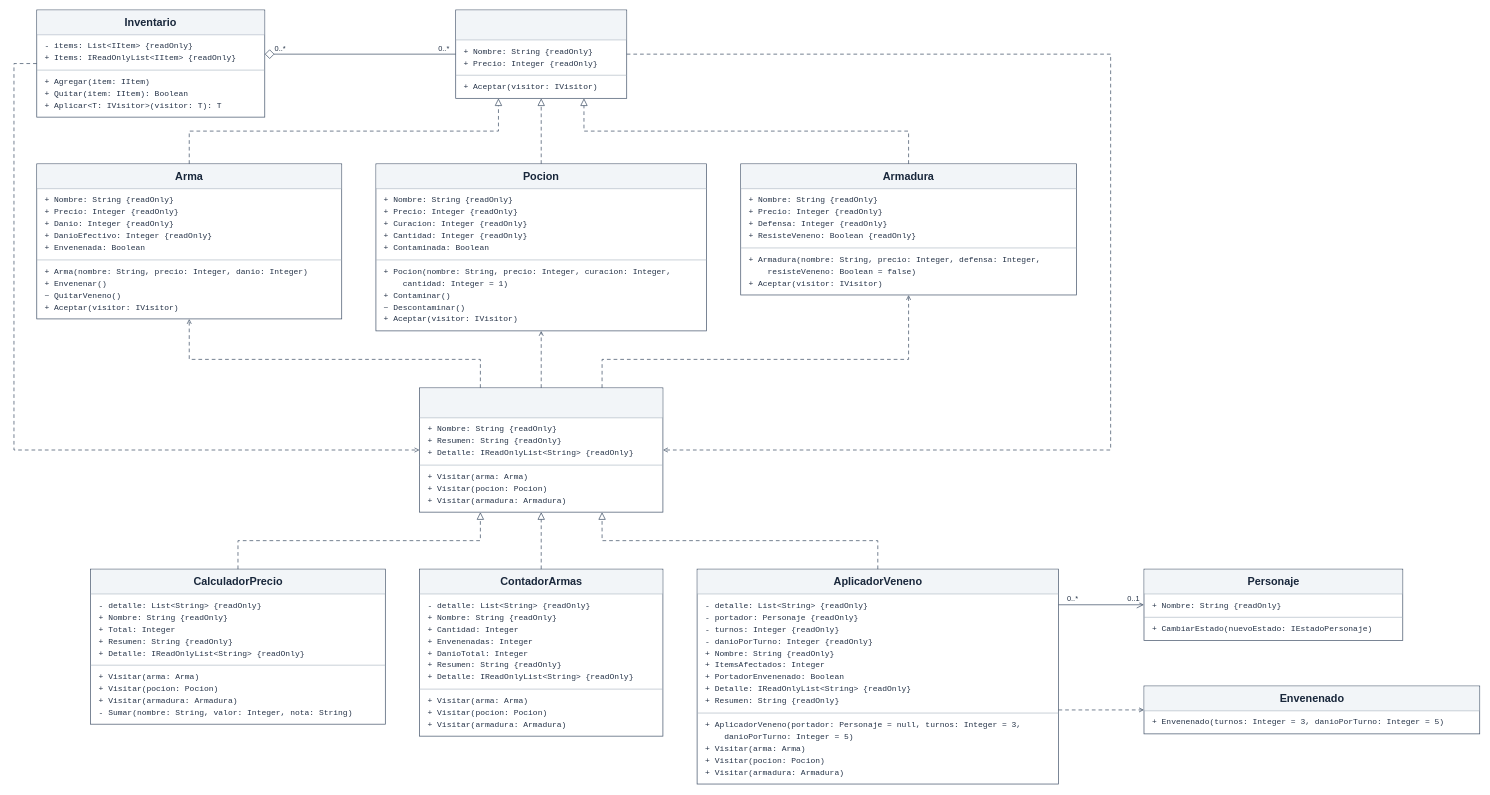
Image size: 1490x795. Some labels were removed from this diagram. The shapes that lost their labels are listed below. From the top down, each one's centre as x and y in pixels, then its label:
the point at 541,24: «interface» IItem
the point at 541,402: «interface» IVisitor
